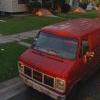Car: (20, 14, 100, 96)
